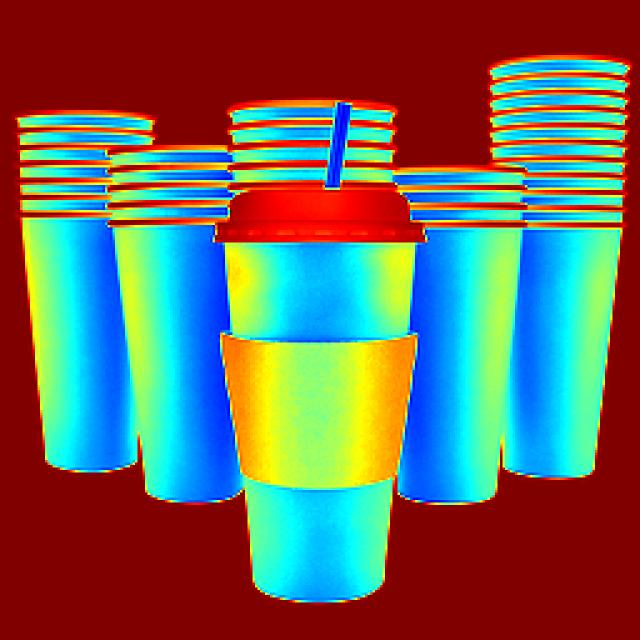Paper Cups: (214, 184, 418, 595), (488, 65, 620, 475), (110, 140, 246, 480), (13, 105, 146, 438), (398, 164, 520, 511)
